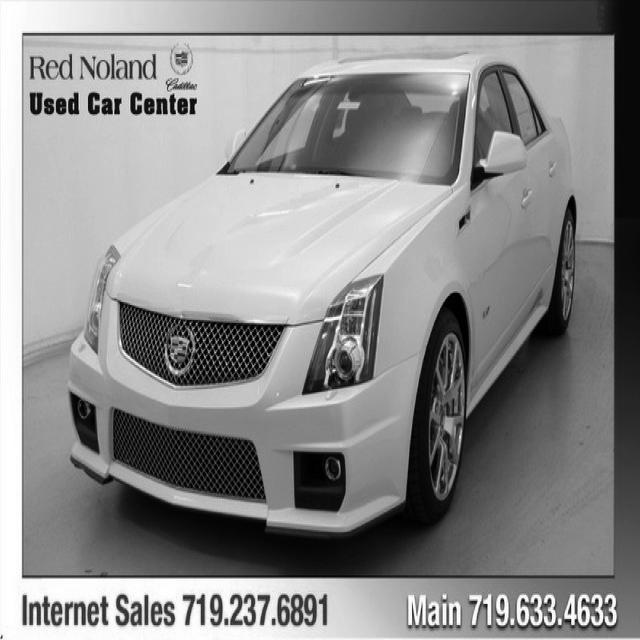car: (66, 51, 577, 539)
